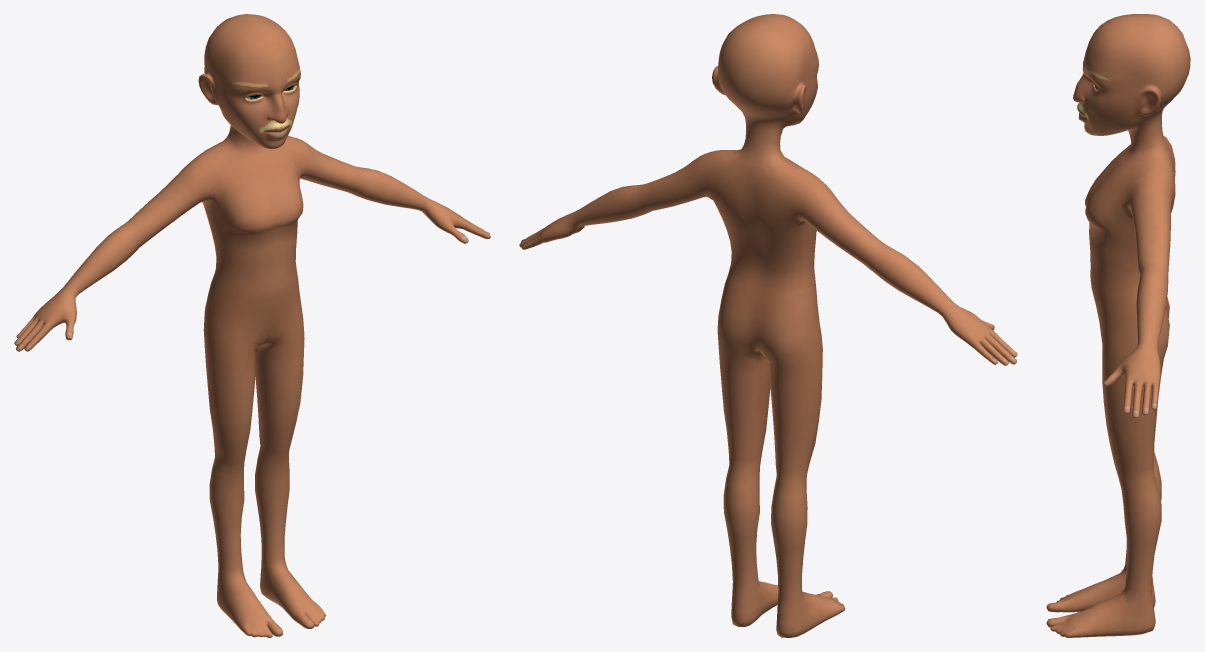
Rendered from frame_0097.glb.
3 views of the same model, side by side, from view 1: azimuth 30°, elevation 25°; view 2: azimuth 150°, elevation 25°; view 3: azimuth 270°, elevation 25° (orthographic). The views are drawn at different scales.
Parts seen in each view (by area): view 1: frame_0097_head_geo; view 2: frame_0097_head_geo; view 3: frame_0097_head_geo.
Boxes of the visible parts, left/top/right/bottom form: frame_0097_head_geo: left=14, top=14, right=490, bottom=637; frame_0097_head_geo: left=519, top=14, right=1017, bottom=637; frame_0097_head_geo: left=1046, top=14, right=1190, bottom=637.
Bounding box in the file's own units: 1.28 × 1.5 × 0.3253.
Materials: 3 (3 with a texture image).
